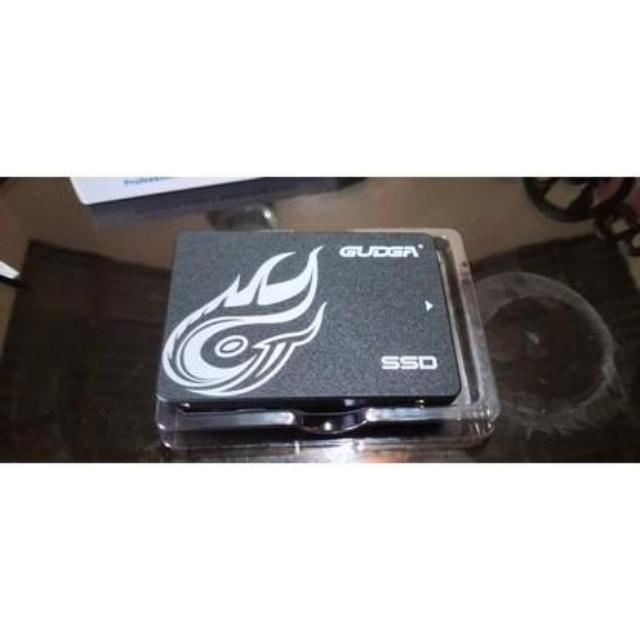DISK: (150, 221, 458, 416)
